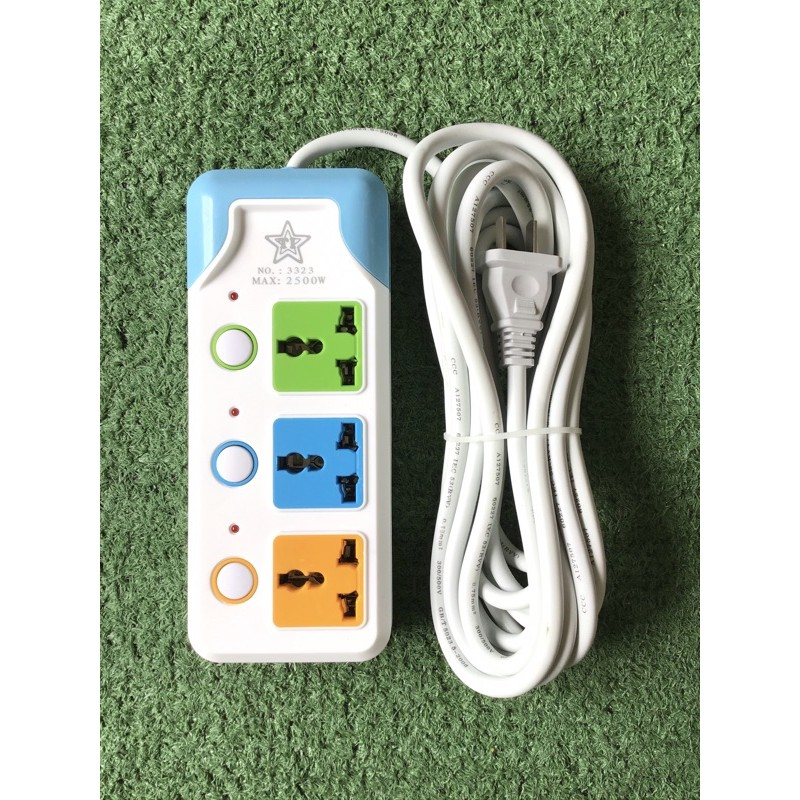Three_eye_plug: (176, 158, 402, 669)
